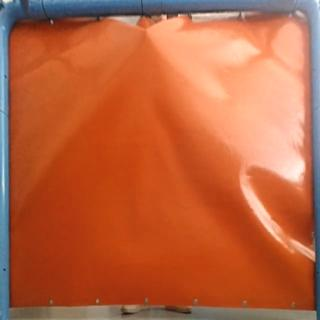Hit-hRxx: (140, 24, 156, 41)
